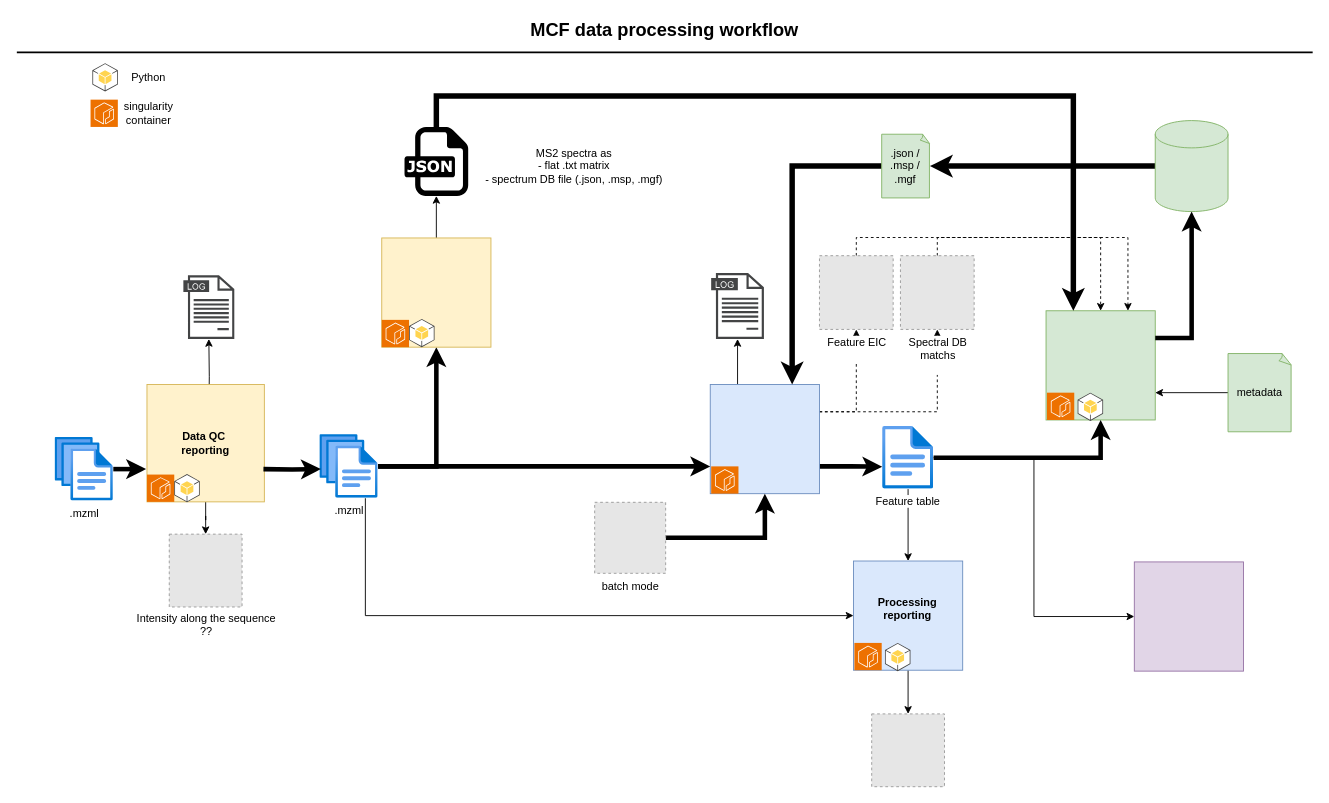
The diagram is 1329 pixels wide and 803 high, and some of its shapes have lost their labels. Grey dashed boxes stand in for pictures. The box of each missing label's shape, as (x1, y1, x2, y2) in pixels:
Data extraction: (381, 237, 491, 347)
Data interpretation: (1133, 561, 1244, 671)
Data processing MZmine3: (709, 384, 819, 494)
Format wrapper to DB: (1045, 310, 1155, 420)
MCF DB: (1154, 120, 1228, 212)
